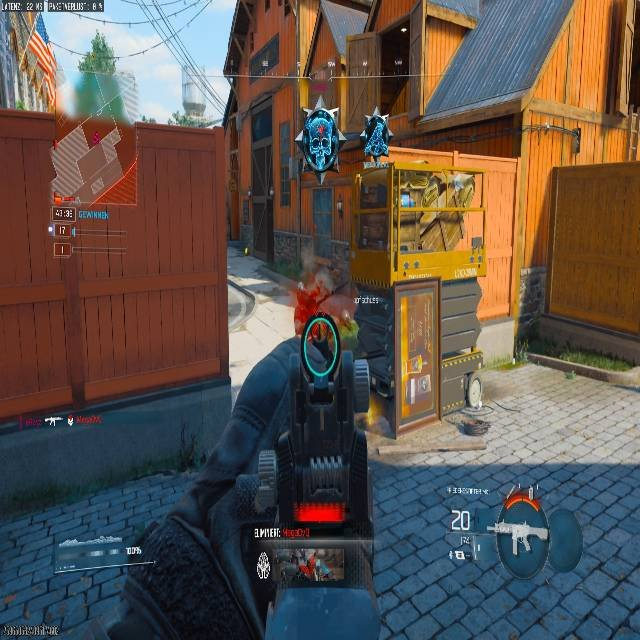head: (300, 315, 346, 367)
player: (198, 310, 379, 638), (298, 103, 342, 173), (363, 110, 389, 159)
